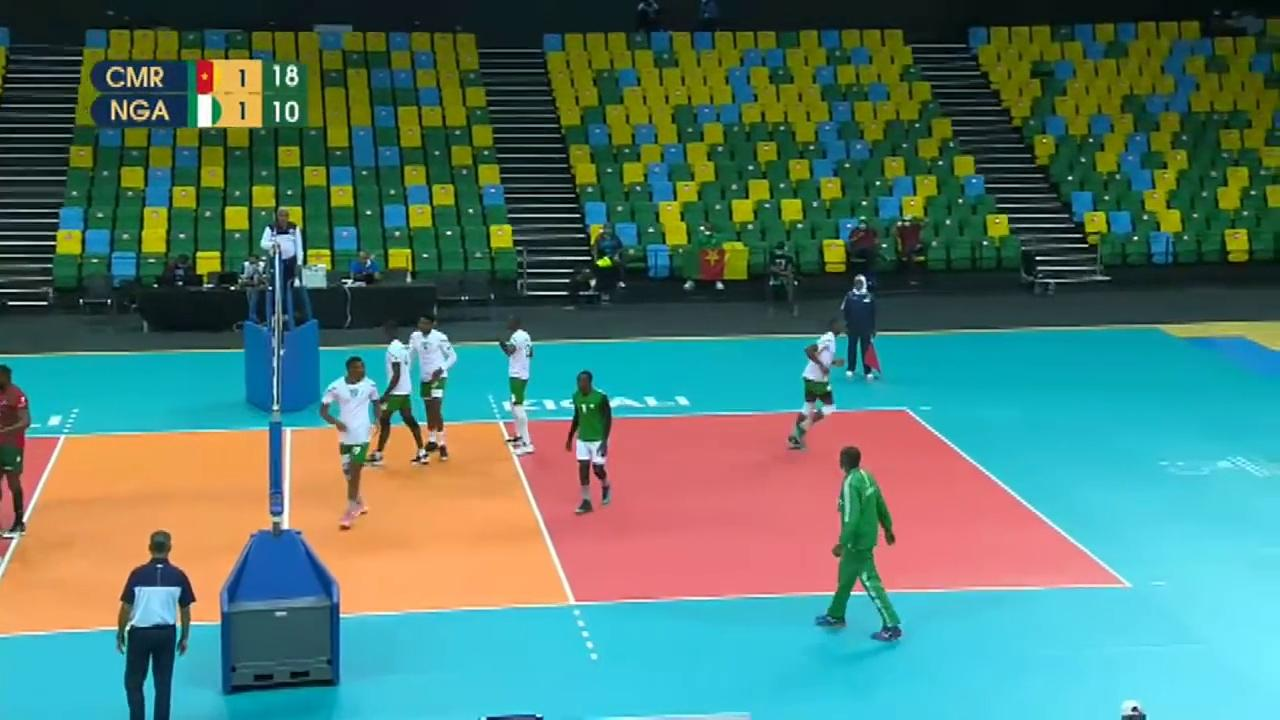player: (321, 357, 381, 527), (369, 321, 433, 474), (409, 311, 466, 466), (0, 355, 43, 545), (791, 318, 850, 448), (562, 374, 611, 512), (493, 318, 537, 451)
refree: (115, 532, 197, 720), (248, 206, 305, 317), (838, 277, 877, 382)
